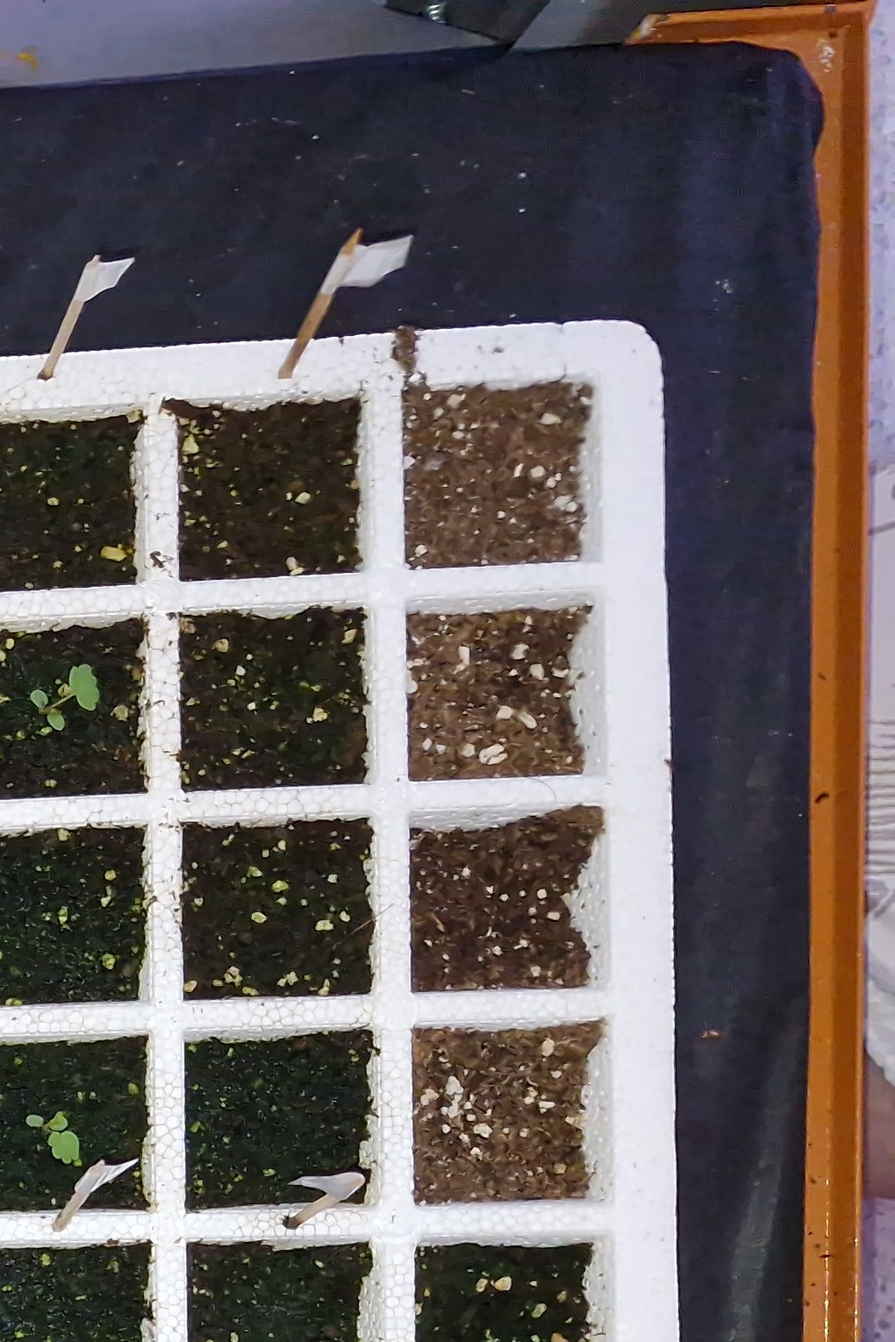Folha: (69, 665, 99, 710), (48, 1131, 79, 1163), (50, 1112, 68, 1131), (47, 713, 65, 731), (31, 690, 48, 708), (26, 1115, 44, 1127)
Germinacao: (30, 665, 100, 730), (27, 1111, 79, 1164)
